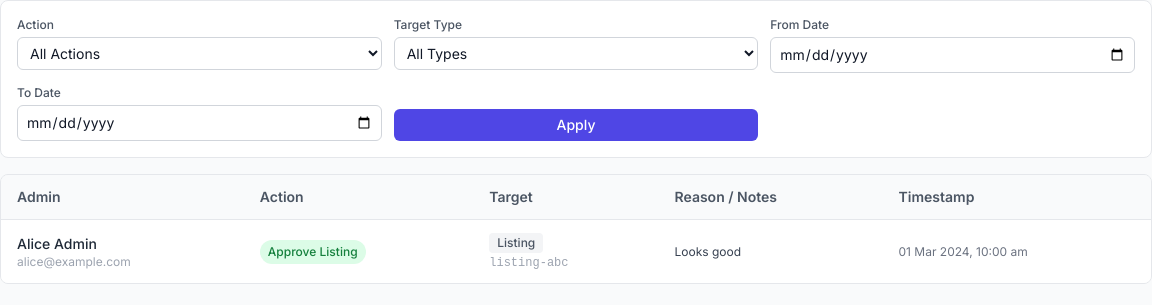
Scenario: ModerationLogsTable › shows empty state with filter hint when filters are active
This screenshot has width=1152, height=305.
Expected: the text "Alice Admin" is shown, x1=17 y1=234 x2=97 y2=252
Step 1. Select "Issue Refund" in the dropdown named "filter by action" → (199, 54), box x1=17 y1=37 x2=382 y2=70
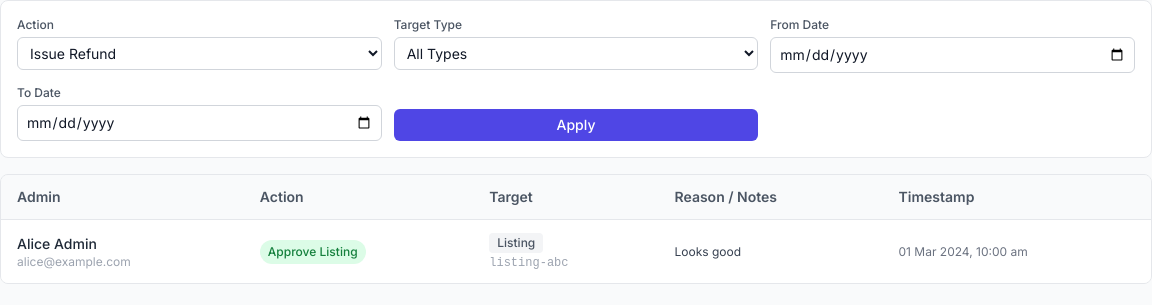
Step 2. Click the button "Apply" → (576, 125), box x1=394 y1=109 x2=758 y2=141
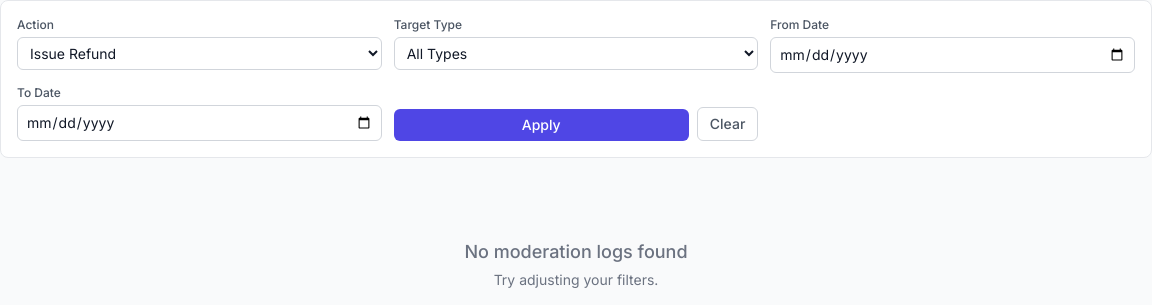
Now the text "No moderation logs found" is shown, box x1=464 y1=241 x2=688 y2=262
Now the text "Try adjusting your filters." is shown, box x1=494 y1=271 x2=658 y2=288
